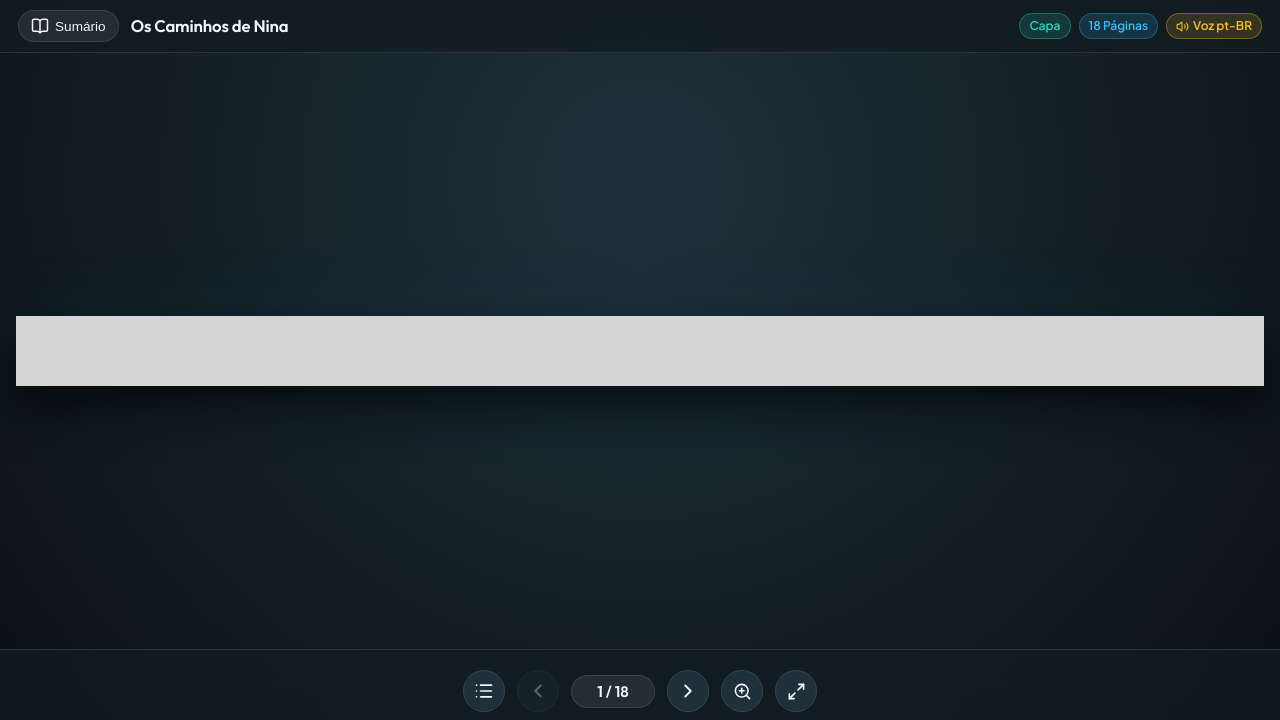
Scenario: Flipbook Digital "Os Caminhos de Nina" - Testes de Integridade e Regras de Negócio › deve exibir botões "Ouvir" e "Ouvir novamente" ao avançar para páginas com áudio
Click the button named "próxima página". click: (688, 691)
box: x1=667 y1=670 x2=709 y2=712
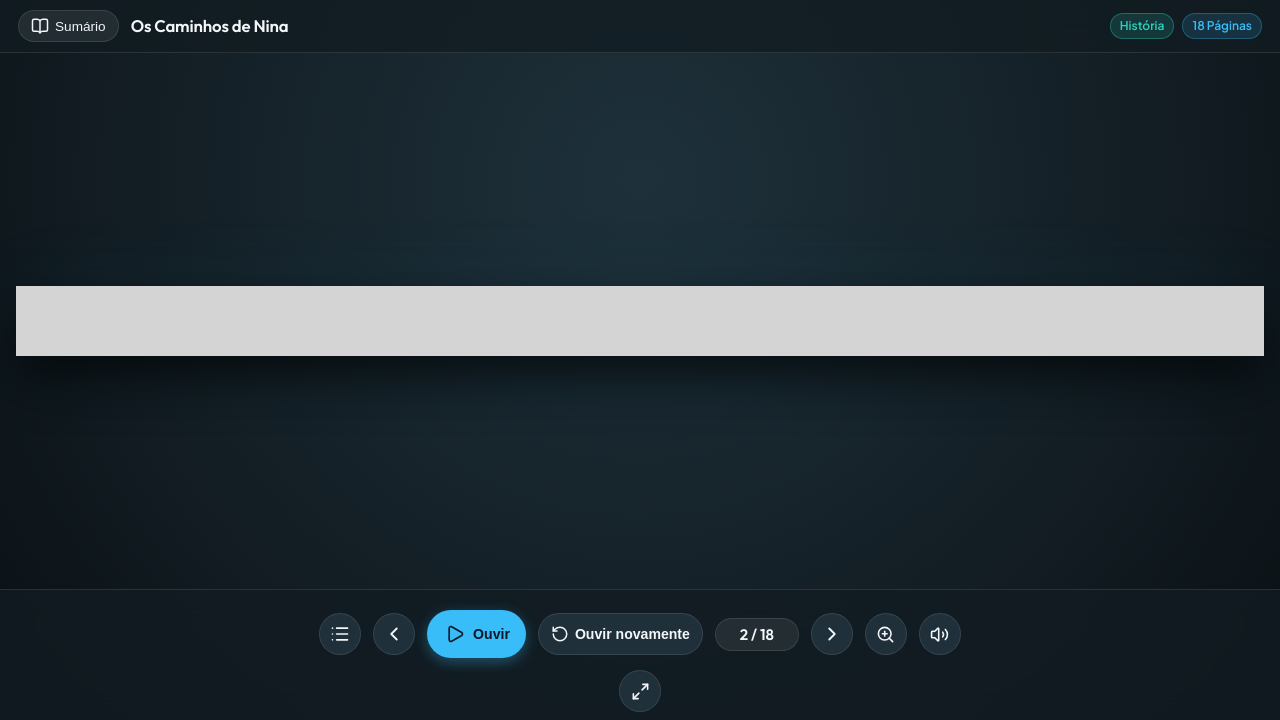
Check: the button "2 / 18" is shown, box x1=715 y1=618 x2=799 y2=650
Check: the button with aria-label "ouvir narração" is shown, box x1=427 y1=610 x2=526 y2=658
Check: the button "Ouvir novamente" is shown, box x1=538 y1=613 x2=703 y2=655
